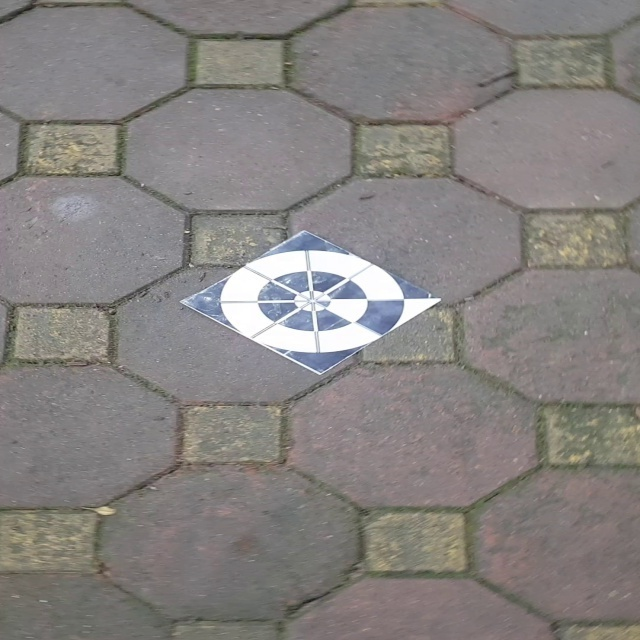landing-zone: (183, 228, 438, 379)
